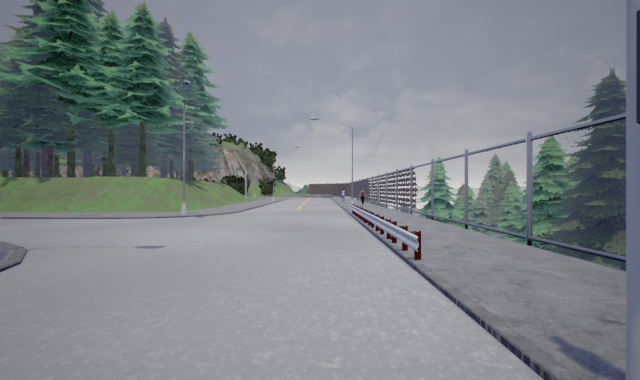pedestrian: (358, 187, 366, 206), (340, 187, 345, 202)
